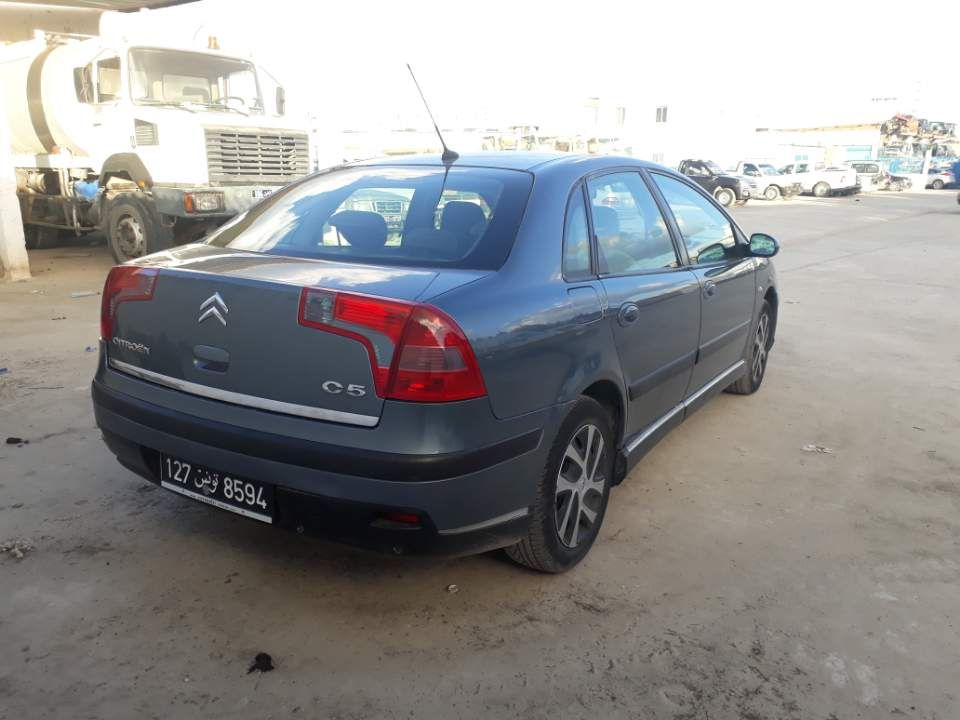LP: (157, 449, 274, 521)
